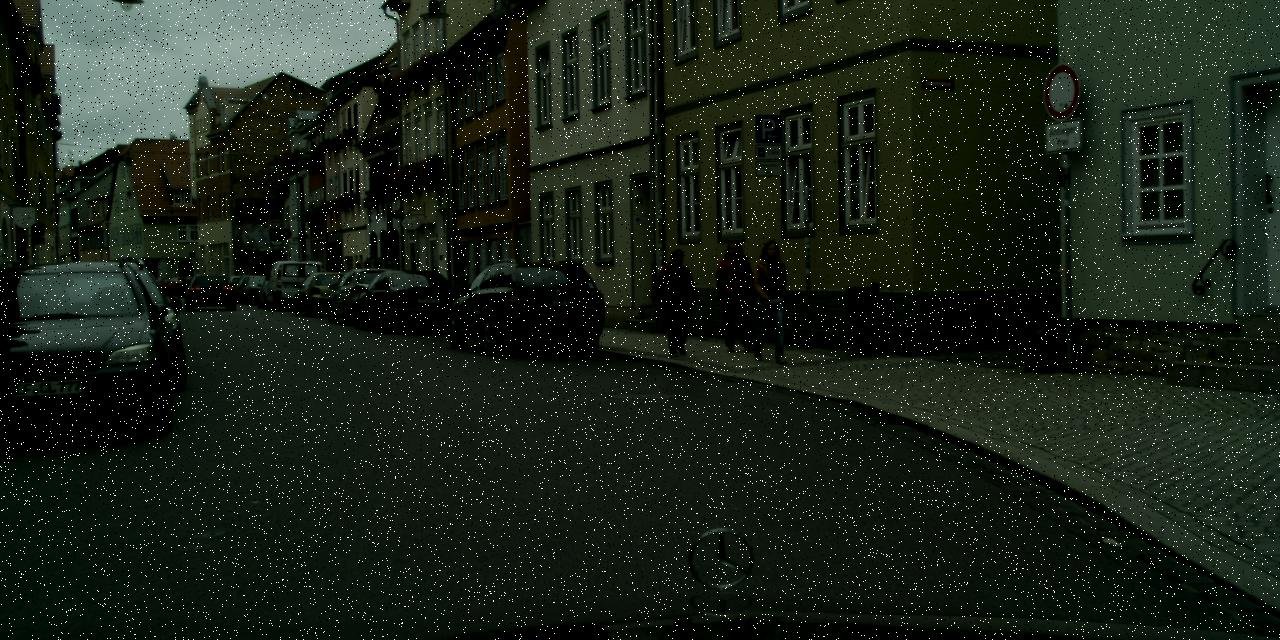ped: (745, 239, 795, 361), (714, 240, 758, 350), (656, 249, 699, 354), (370, 260, 388, 302), (351, 261, 366, 301), (333, 266, 347, 300)
